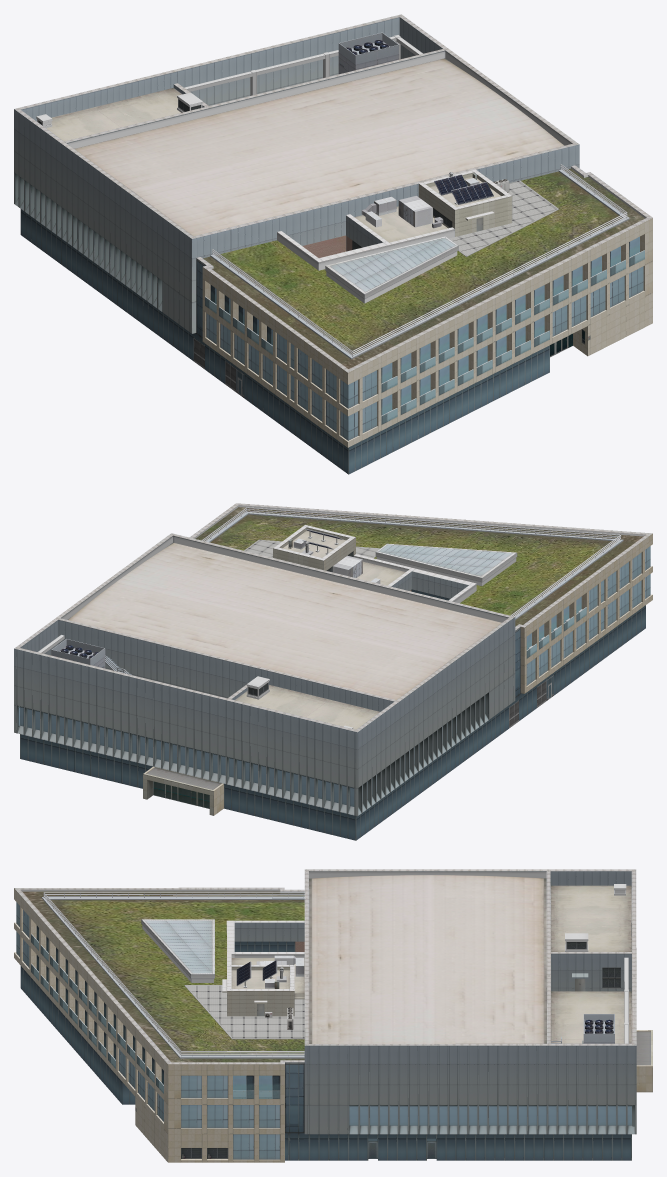
3 renders of one model, top to bottom at view 1: azimuth 30°, elevation 25°; view 2: azimuth 150°, elevation 25°; view 3: azimuth 270°, elevation 25°, orthographic. The views are drawn at different scales.
Parts seen in each view (by area): view 1: MainBuilding; view 2: MainBuilding; view 3: MainBuilding.
Part boxes in pixels (box(x1,y1,x2,y2)): MainBuilding: box(14, 14, 652, 474); MainBuilding: box(14, 503, 652, 840); MainBuilding: box(14, 869, 652, 1162).
Bounding box in the file's own units: 5.42 × 1.88 × 8.28.
1 material, 1 textured.
